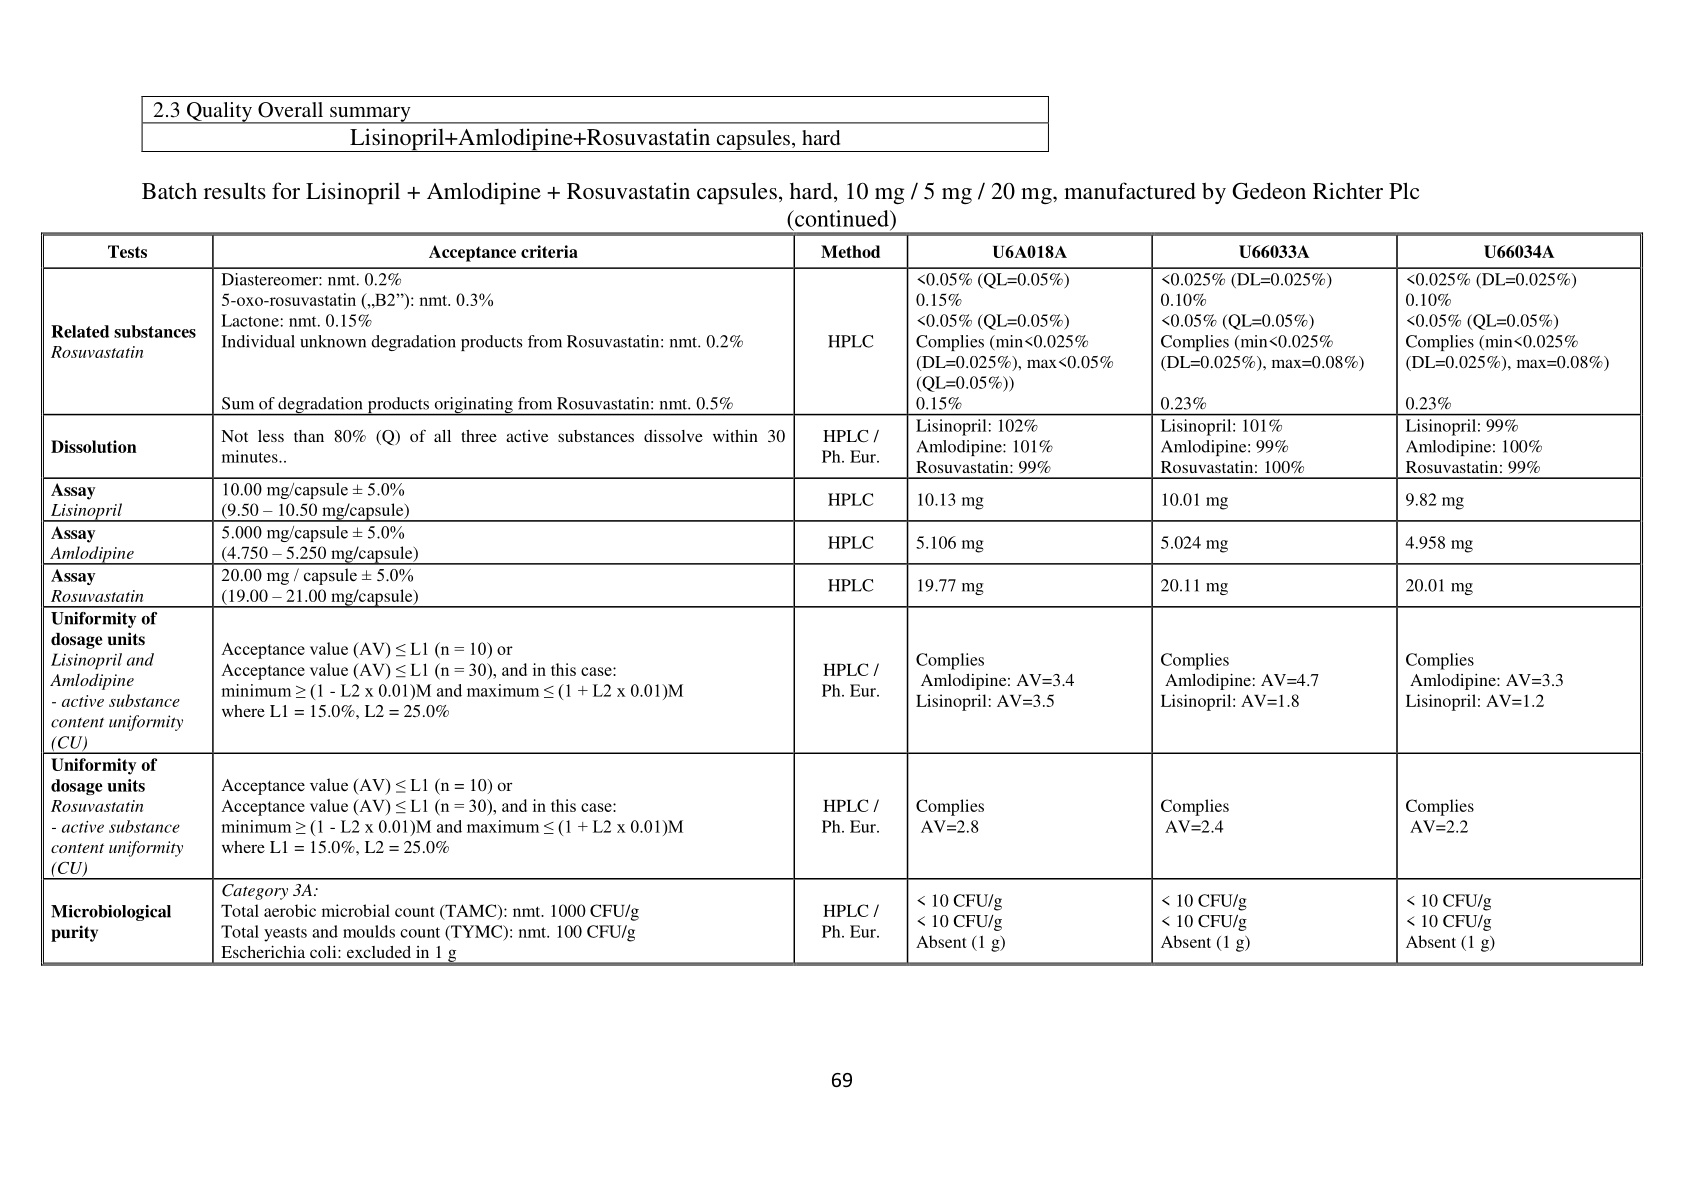full_lined: (40, 231, 1644, 967), (140, 95, 1050, 152)
